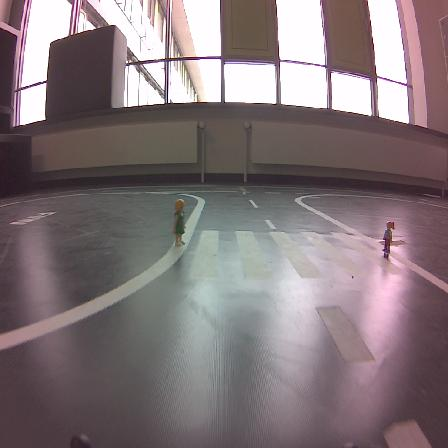CHILD: (382, 221, 394, 258)
PERSON: (173, 199, 184, 245)
